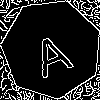A: (26, 24, 75, 78)
